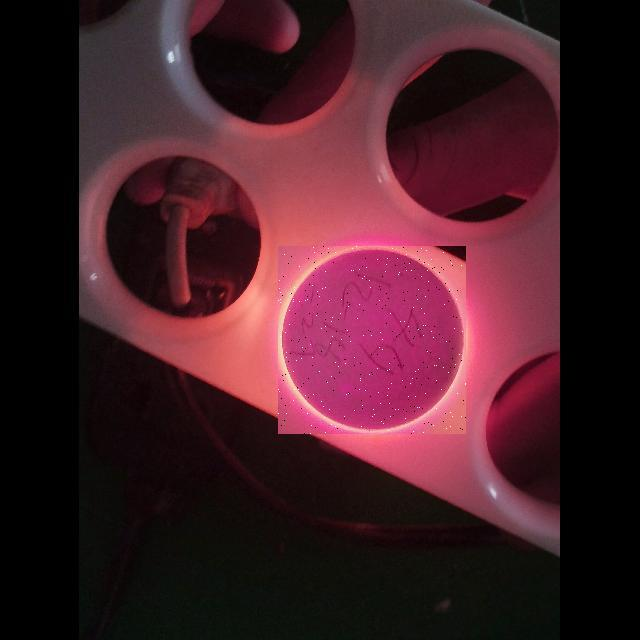Infertile: (278, 246, 466, 434)
